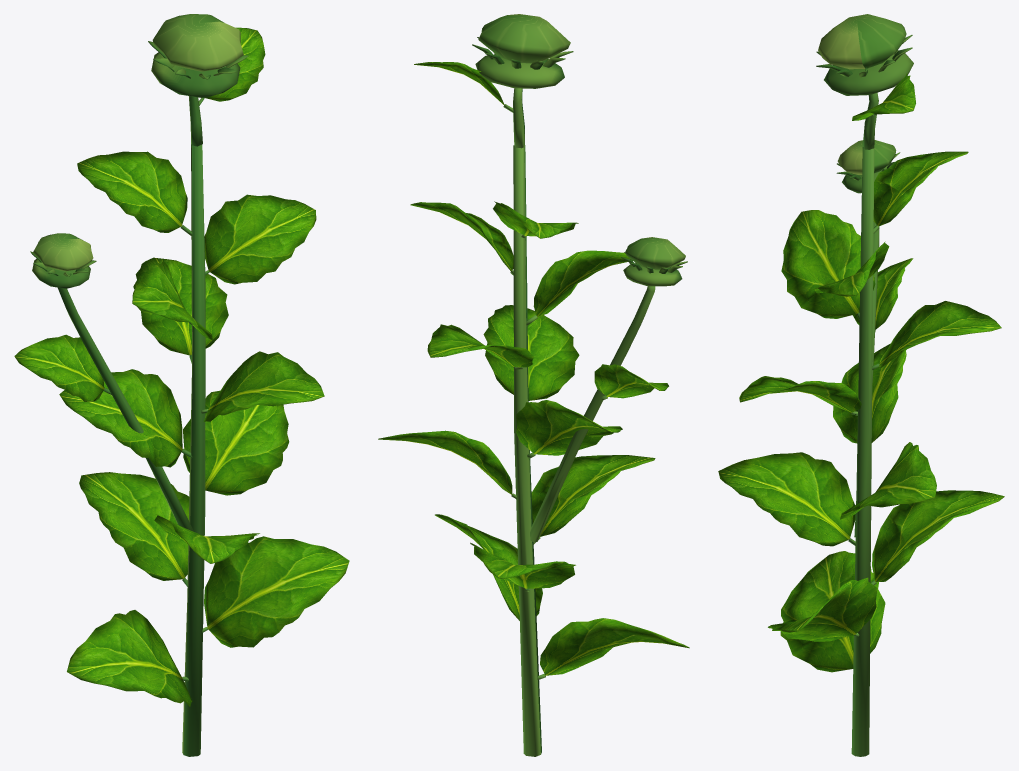
Rendered from NP_Sunflower_BudForming_LOD1.fbx.
3 renders of one model, left to right at view 1: azimuth 30°, elevation 25°; view 2: azimuth 150°, elevation 25°; view 3: azimuth 270°, elevation 25°, orthographic.
Parts seen in each view (by area): view 1: NP_Sunflower_BudForming; view 2: NP_Sunflower_BudForming; view 3: NP_Sunflower_BudForming.
Part boxes in pixels (x1,y1,x2,y2): NP_Sunflower_BudForming: [14, 14, 349, 756]; NP_Sunflower_BudForming: [378, 14, 689, 756]; NP_Sunflower_BudForming: [718, 14, 1004, 756].
Bounding box in the file's own units: 49.77 × 123 × 43.39.
